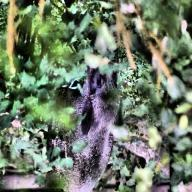boar: (26, 64, 134, 192)
